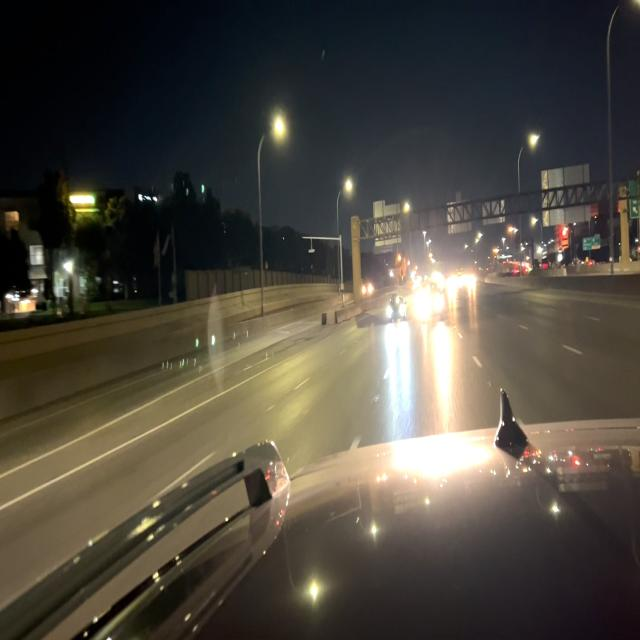back-of-sign: (541, 160, 592, 226), (372, 199, 402, 250), (446, 193, 473, 236), (480, 193, 507, 228)
